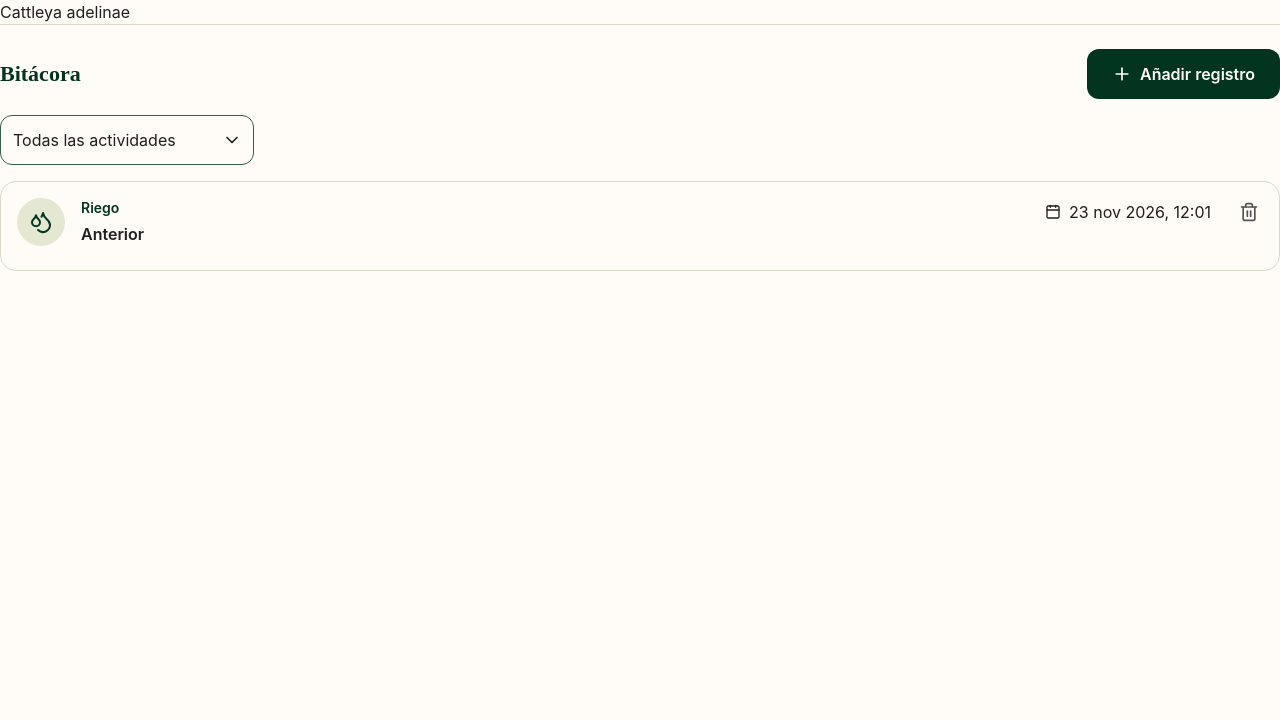
Test: PlantLogSection: añadir un registro › sin foto: guarda, cierra, el registro queda arriba, el foco vuelve a «Añadir registro» y se anuncia
Check: the list named "Registros de la bitácora" is shown, box [0, 181, 1279, 271]
Click the button "Añadir registro": click(1184, 74) [1087, 49, 1279, 99]
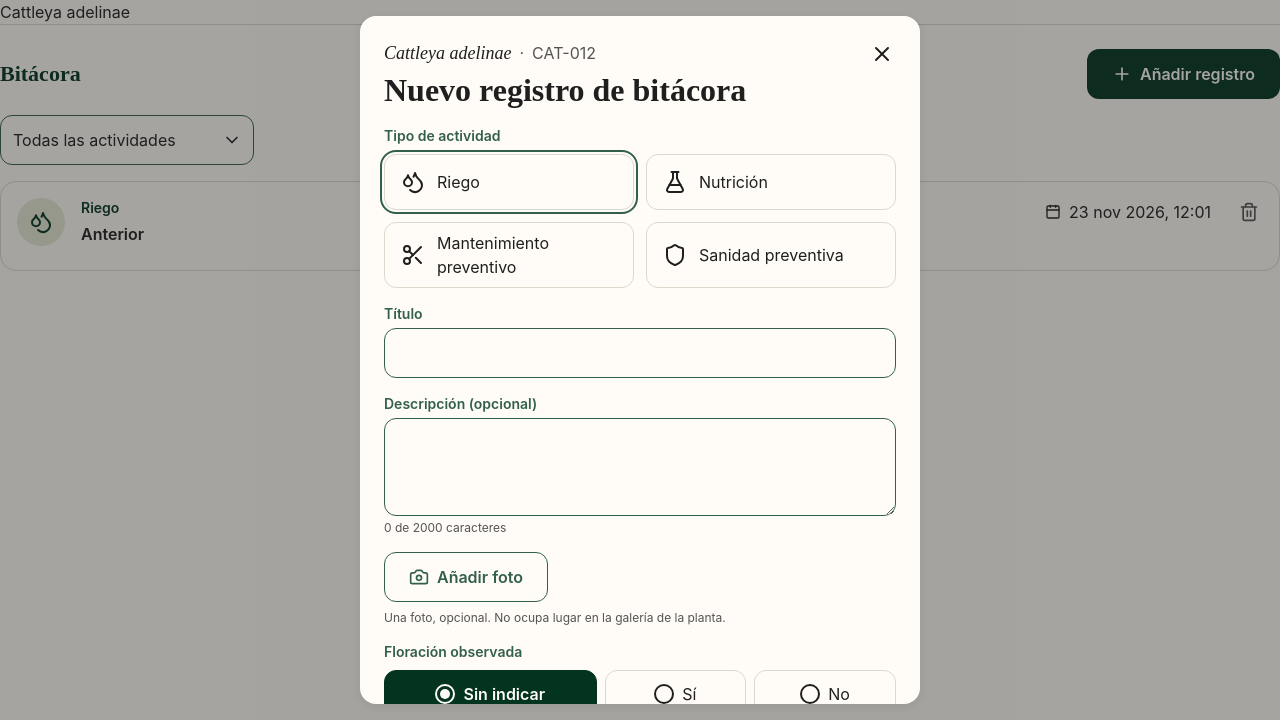
Click the radio button labelled "Riego": click(509, 182) [384, 154, 634, 210]
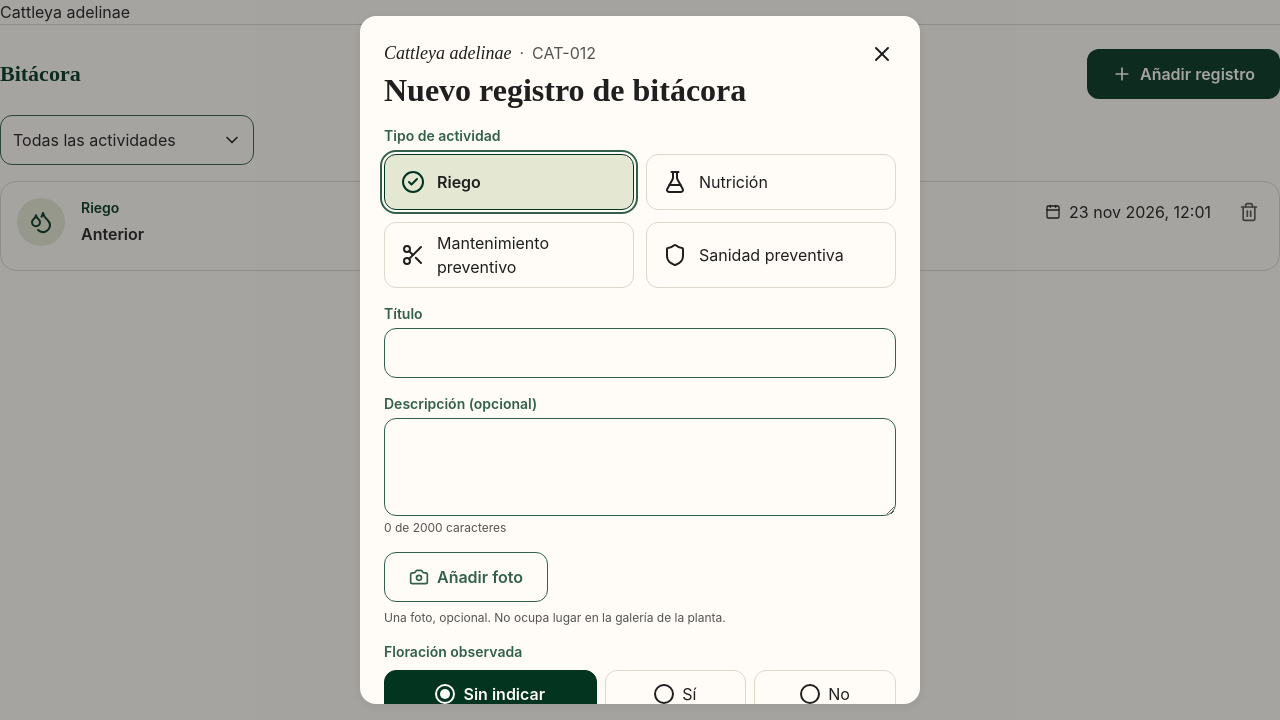
In the field labelled "Título": (640, 353) [384, 328, 896, 378], type "Riego por inmersión"
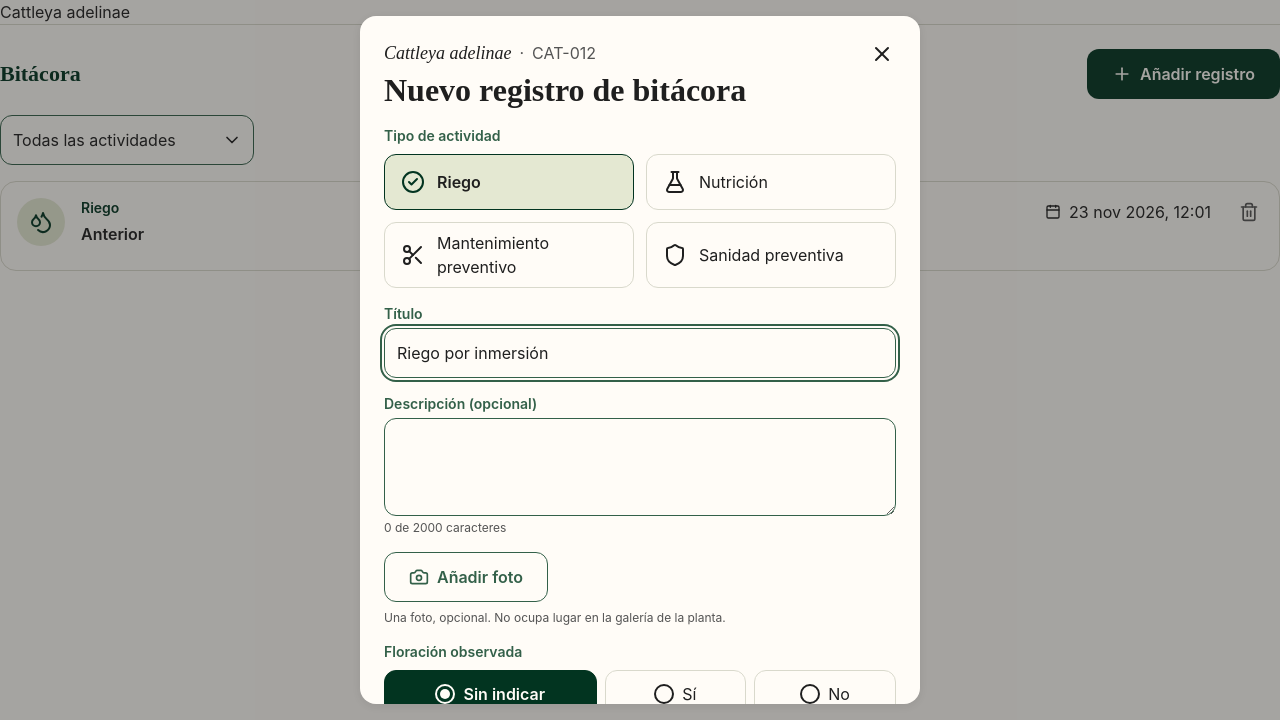
In the text box labelled "Descripción (opcional)": (640, 467) [384, 418, 896, 516], type "Diez minutos en agua de lluvia."
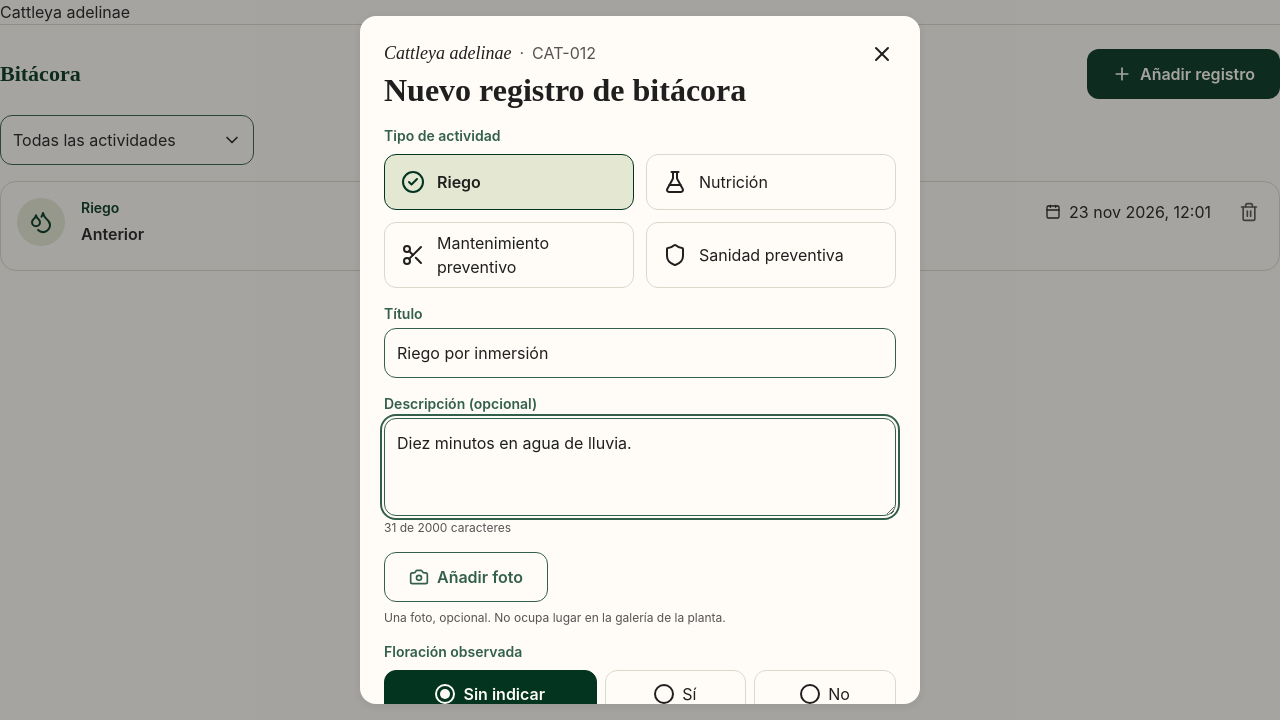
Click the radio button labelled "Sí": click(675, 694) [605, 670, 746, 718]
(page scrolled)
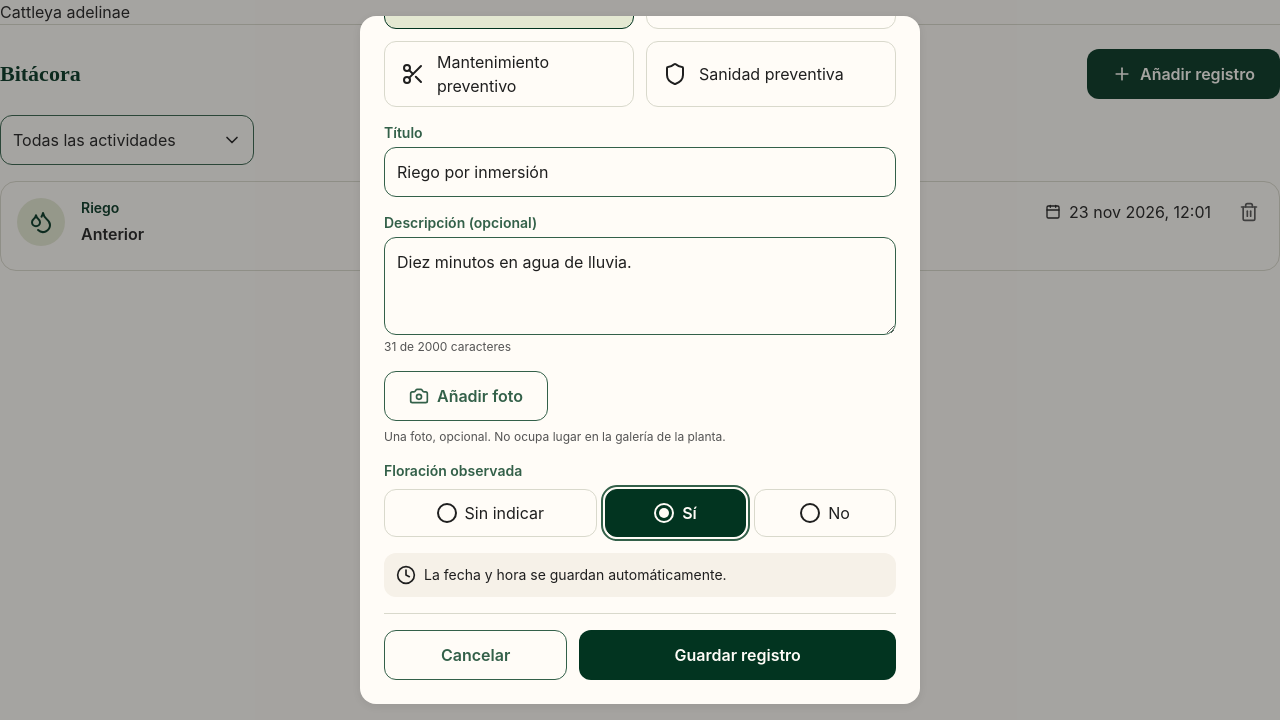
Click the button "Guardar registro": click(738, 655) [579, 630, 896, 680]
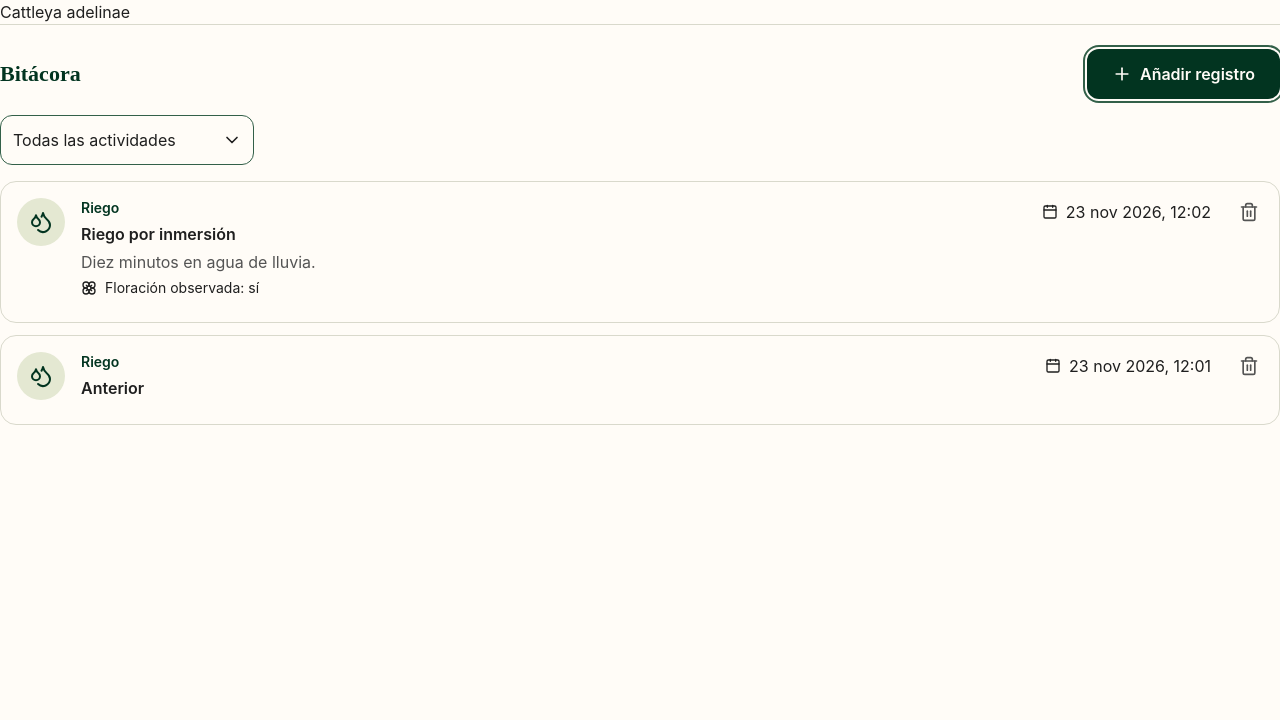
Check: the dialog is gone
